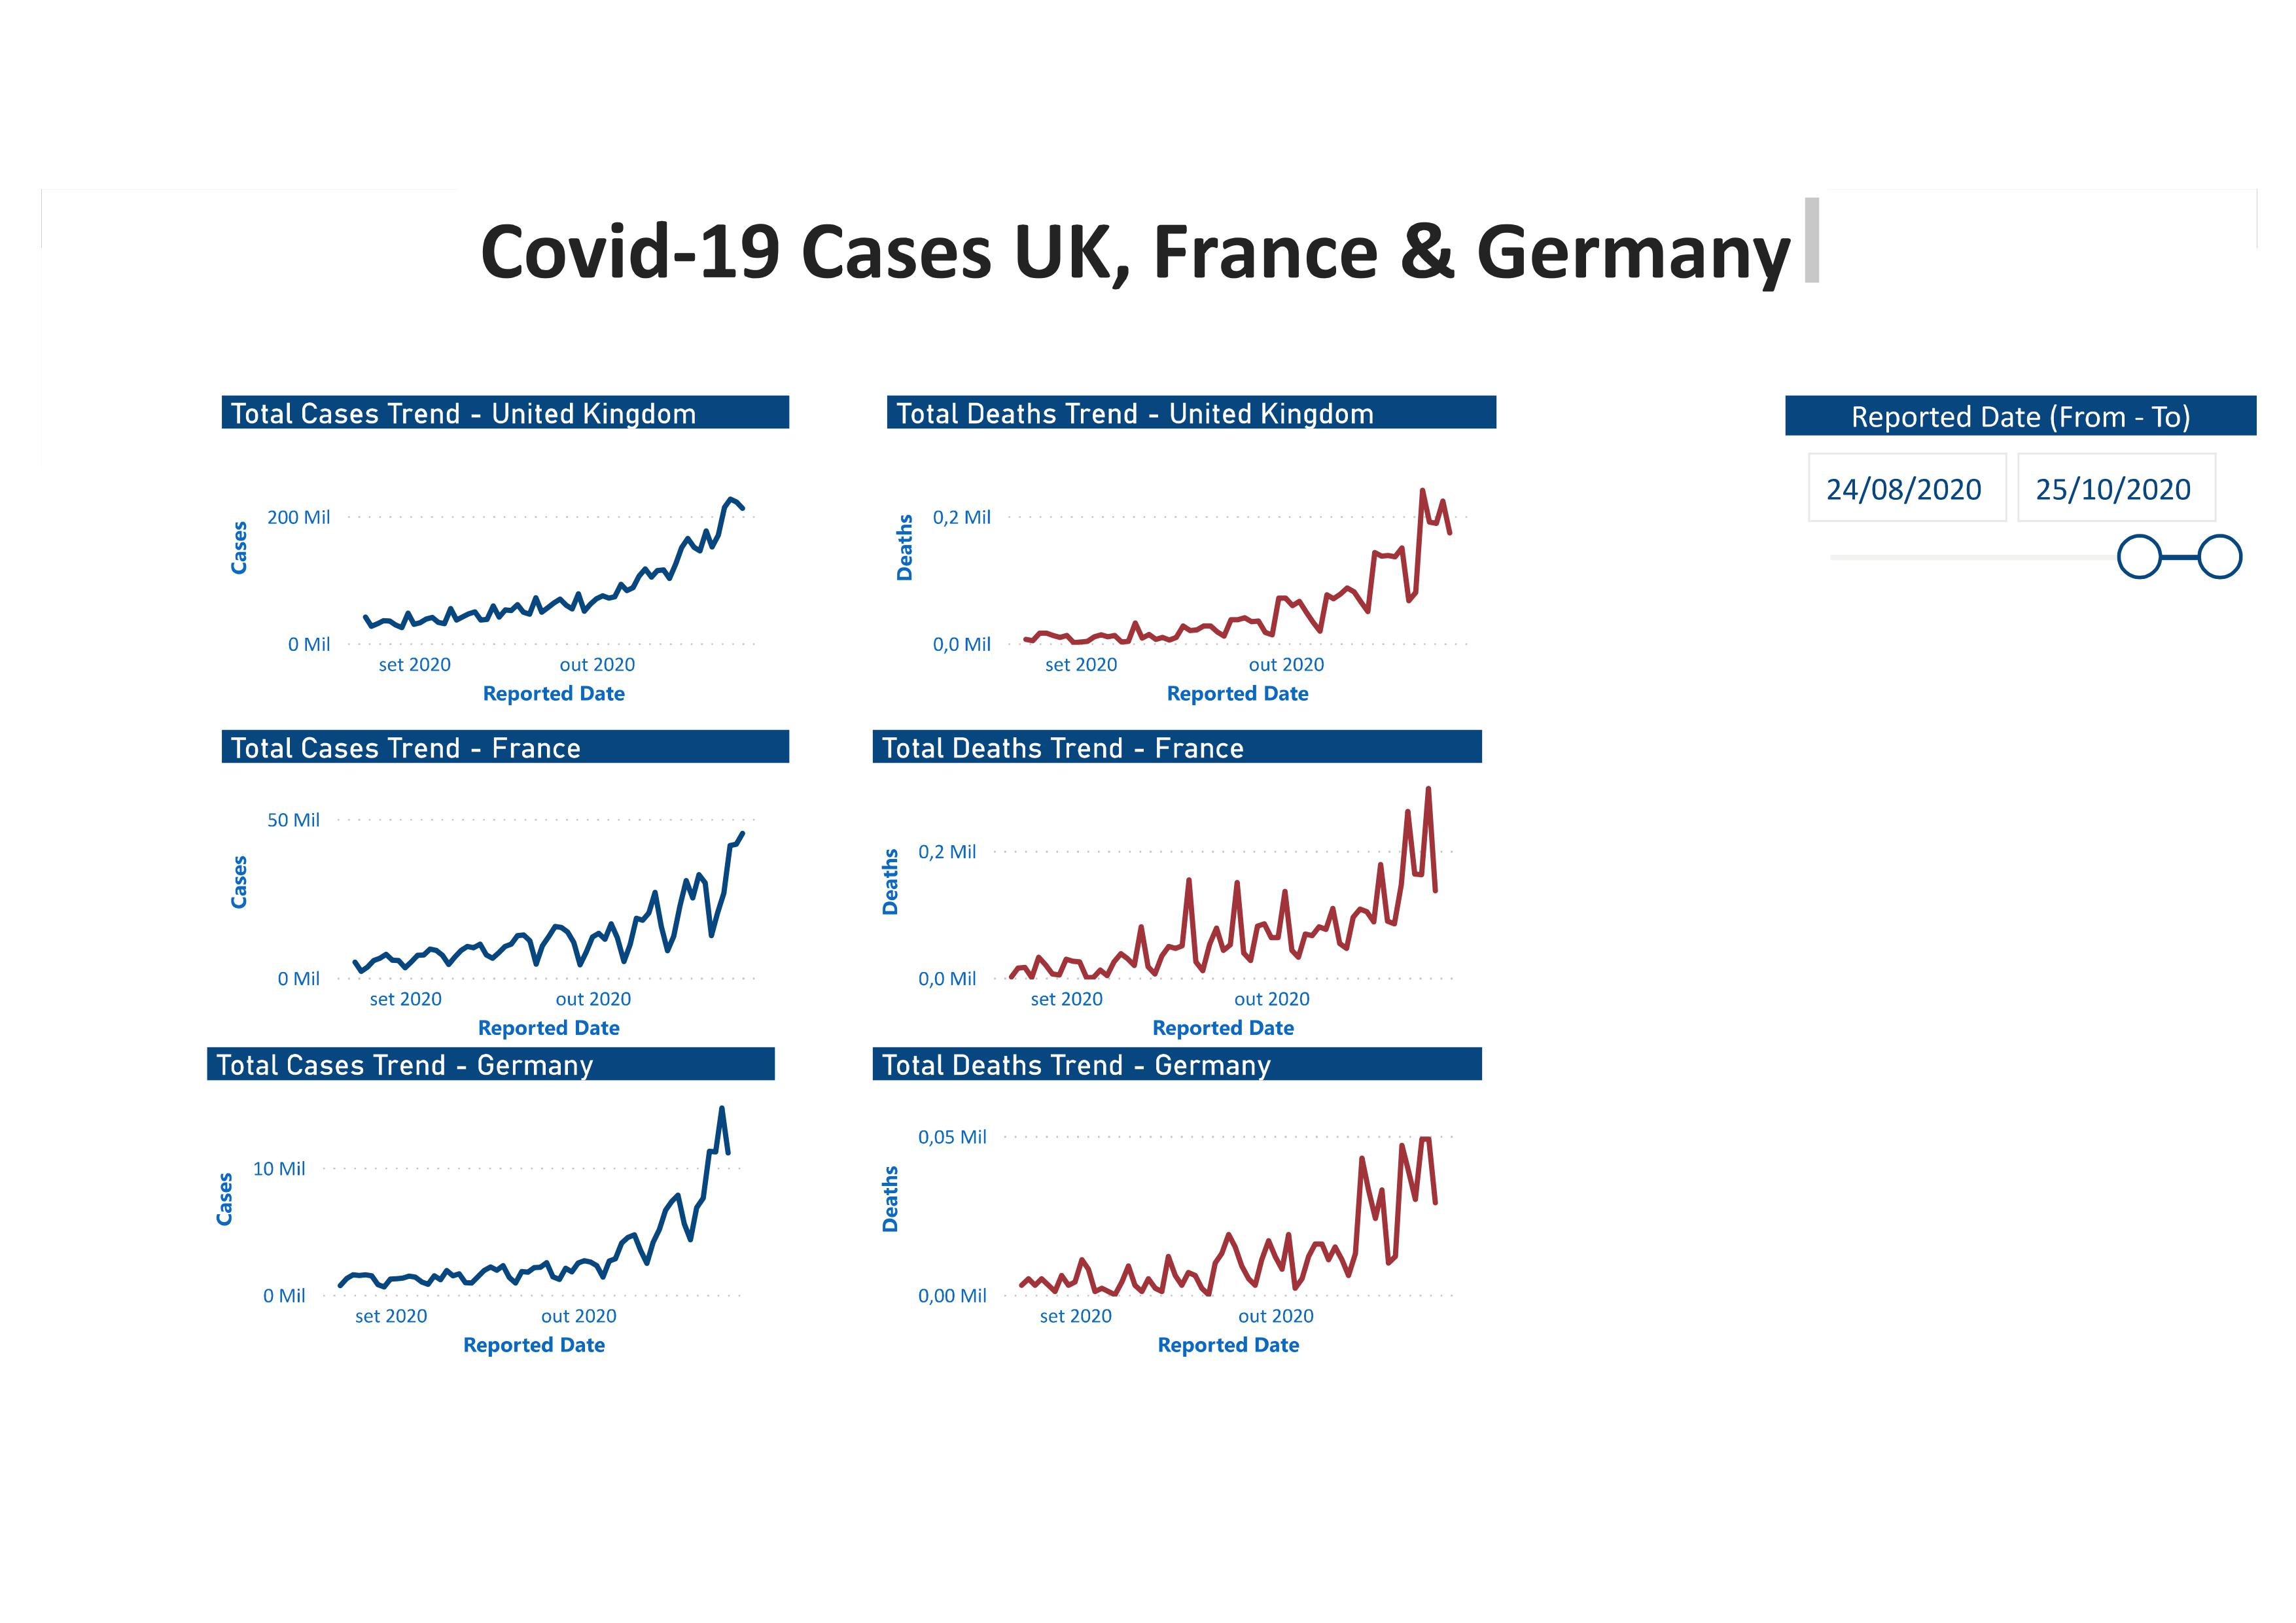

What the dashboard file says about the page in this screenshot:
{"tool":"powerbi","page":{"name":"Trends - Country","canvas":[1280,720],"ordinal":1},"visuals":[{"type":"lineChart","title":"Total Cases Trend - United Kingdom","fields":{"Category":["covid_reporting cases_and_deaths.reported_date"],"Y":["Sum(covid_reporting cases_and_deaths.cases_count)"]},"box":[104,120,328,184],"z":0},{"type":"slicer","title":"Reported Date (From - To)","fields":{"Values":["covid_reporting cases_and_deaths.reported_date"]},"box":[1008,120,272,112],"z":1000},{"type":"lineChart","title":"Total Cases Trend - France","fields":{"Category":["covid_reporting cases_and_deaths.reported_date"],"Y":["Sum(covid_reporting cases_and_deaths.cases_count)"]},"box":[104,312,328,184],"z":2000},{"type":"lineChart","title":"Total Cases Trend - Germany","fields":{"Category":["covid_reporting cases_and_deaths.reported_date"],"Y":["Sum(covid_reporting cases_and_deaths.cases_count)"]},"box":[96,496,328,184],"z":3000},{"type":"lineChart","title":"Total Deaths Trend - United Kingdom","fields":{"Category":["covid_reporting cases_and_deaths.reported_date"],"Y":["Sum(covid_reporting cases_and_deaths.deaths_count)"]},"box":[488,120,352,184],"z":4000},{"type":"lineChart","title":"Total Deaths Trend - France","fields":{"Category":["covid_reporting cases_and_deaths.reported_date"],"Y":["Sum(covid_reporting cases_and_deaths.deaths_count)"]},"box":[480,312,352,184],"z":5000},{"type":"lineChart","title":"Total Deaths Trend - Germany","fields":{"Category":["covid_reporting cases_and_deaths.reported_date"],"Y":["Sum(covid_reporting cases_and_deaths.deaths_count)"]},"box":[480,496,352,184],"z":6000},{"type":"textbox","box":[240,0,792,64],"z":7000}]}

Visuals, with their boxes on the page's 1280x720 design canvas (x1, y1, x2, y2). These are canvas units, not pixel positions in the 2296x1623 screenshot, which may show the page scaled, cropped or inside an application window:
"Total Cases Trend - United Kingdom" lineChart: [104,120,432,304]
"Reported Date (From - To)" slicer: [1008,120,1280,232]
"Total Cases Trend - France" lineChart: [104,312,432,496]
"Total Cases Trend - Germany" lineChart: [96,496,424,680]
"Total Deaths Trend - United Kingdom" lineChart: [488,120,840,304]
"Total Deaths Trend - France" lineChart: [480,312,832,496]
"Total Deaths Trend - Germany" lineChart: [480,496,832,680]
textbox: [240,0,1032,64]
